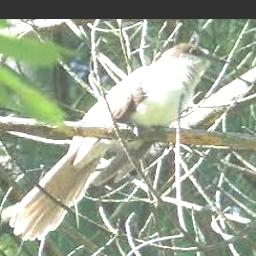Cuckoo: (9, 43, 231, 240)
